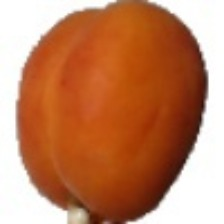apricot: (44, 24, 218, 193)
